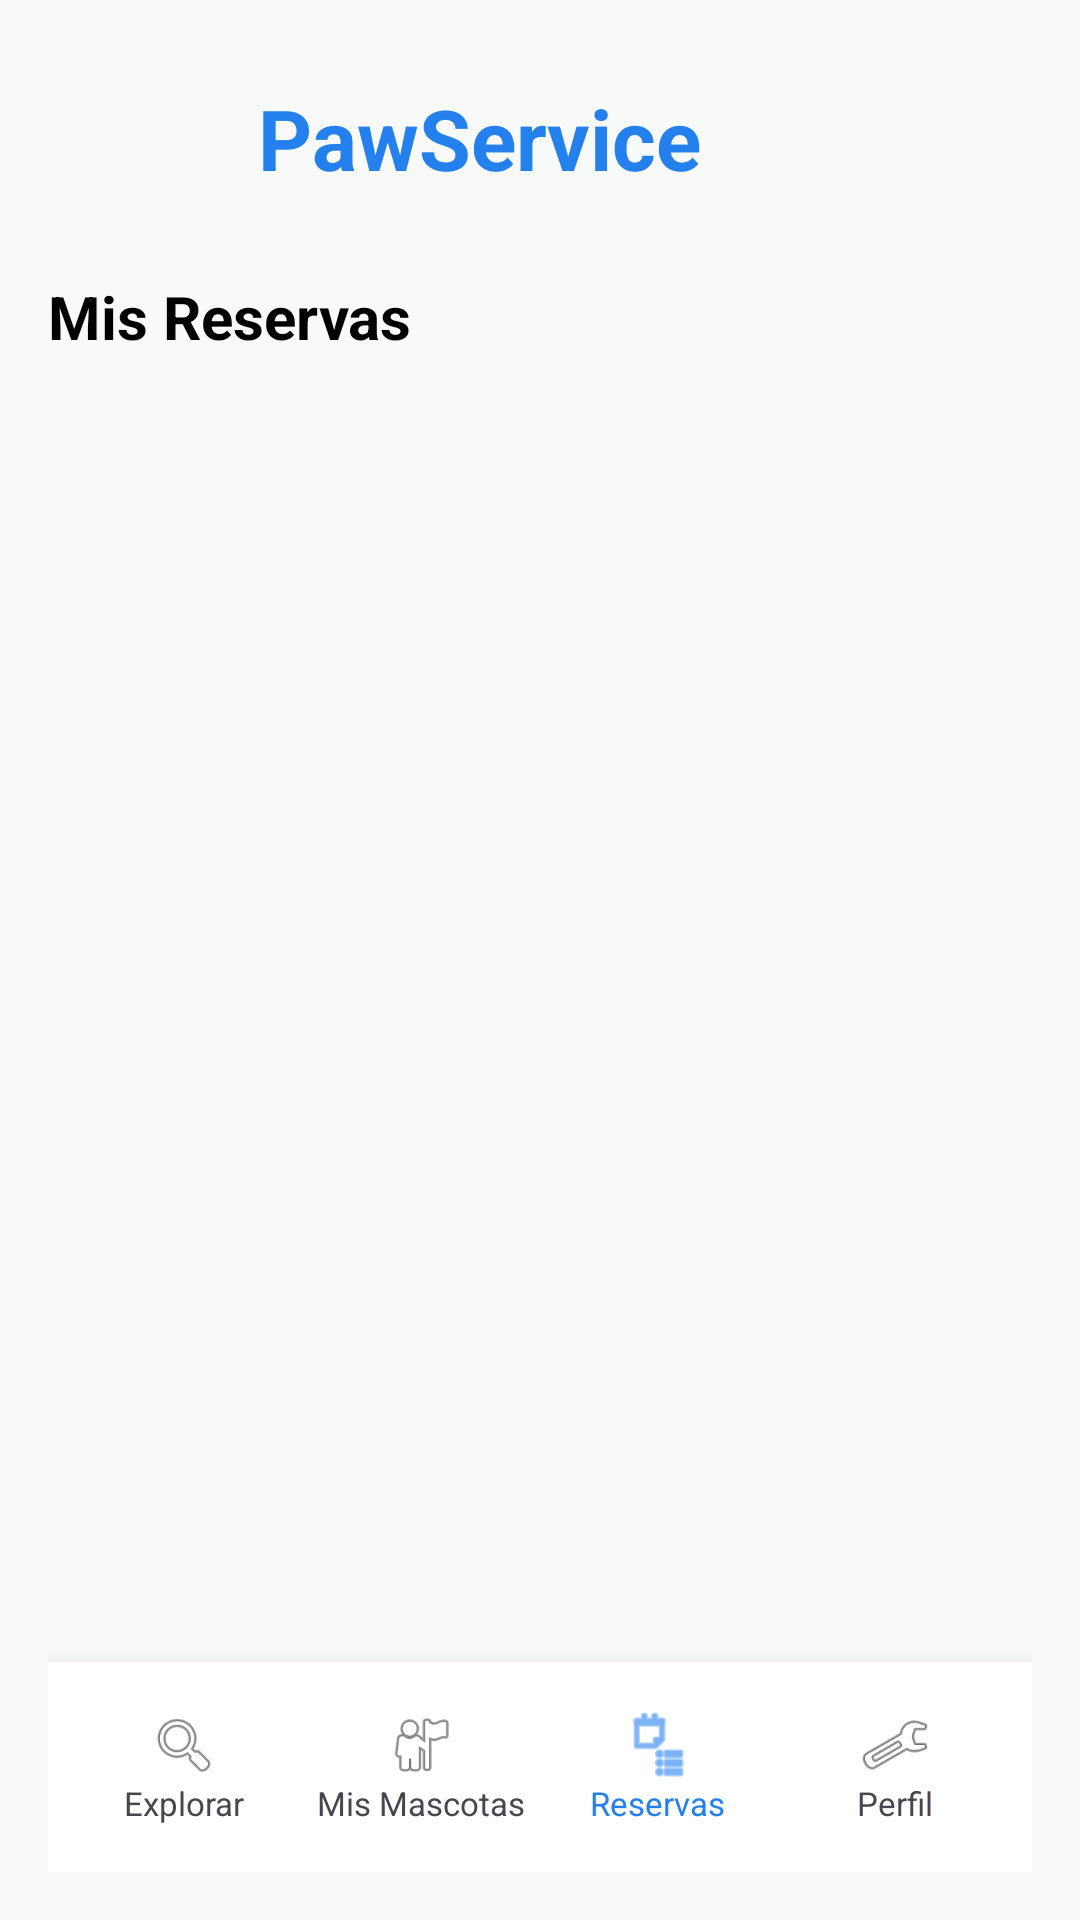

Point at icon controls on the screen. Image size 1080x1920, points as (x=x, y=y).
agenda: (x=658, y=1745)
manage: (x=894, y=1745)
myplaces: (x=422, y=1745)
search: (x=184, y=1745)
